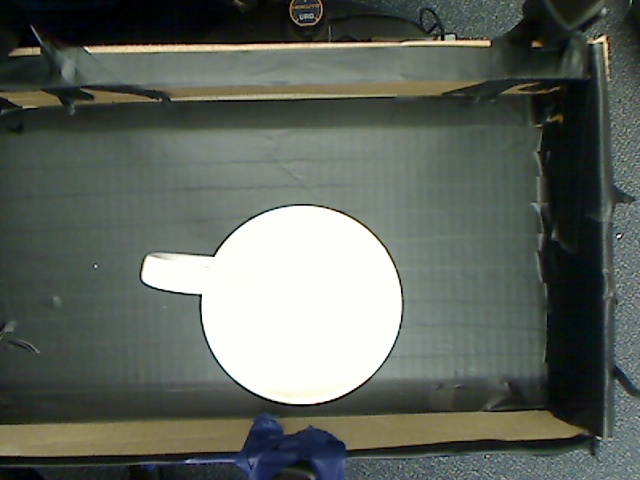mug: (129, 194, 422, 425)
